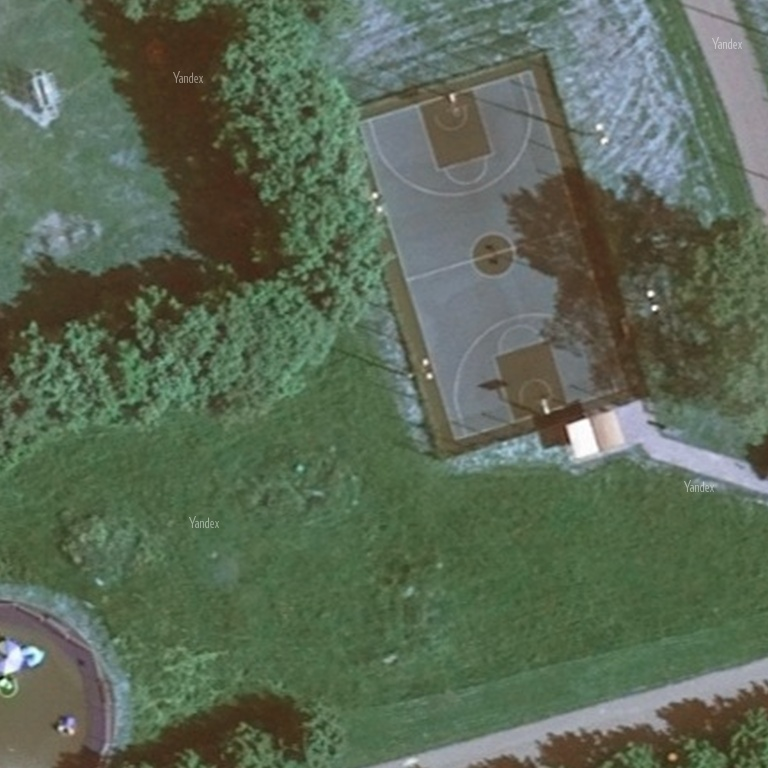basket_court: (318, 47, 664, 464)
